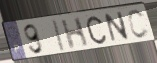9: (23, 23, 45, 56)
C: (126, 8, 150, 40), (85, 15, 108, 46)
H: (60, 16, 90, 51)
I: (52, 18, 67, 54)
N: (104, 10, 131, 45)
